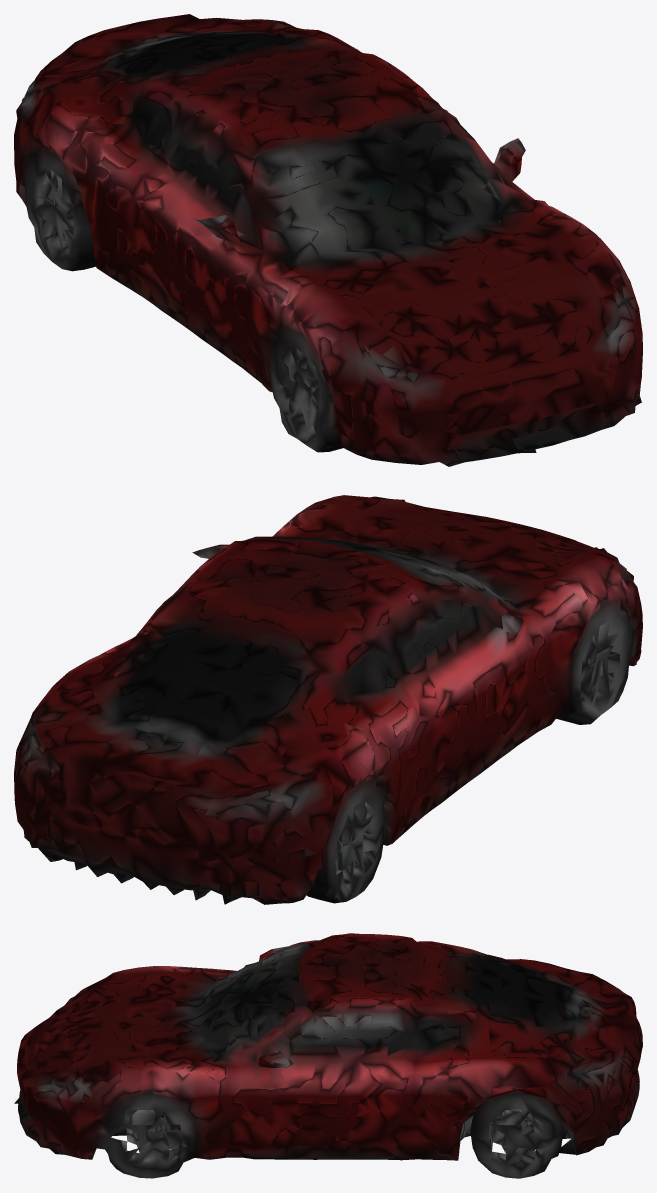
The model's file is car_red.1.glb.
3 renders of one model, top to bottom at view 1: azimuth 30°, elevation 25°; view 2: azimuth 150°, elevation 25°; view 3: azimuth 270°, elevation 25°, orthographic. The views are drawn at different scales.
Parts seen in each view (by area): view 1: lod; view 2: lod; view 3: lod.
Part boxes in pixels (x1,y1,x2,y2): lod: [14, 14, 642, 466]; lod: [14, 495, 642, 904]; lod: [14, 933, 642, 1178].
Size of the model in its own units: 0.4459 by 0.2879 by 0.9976.
